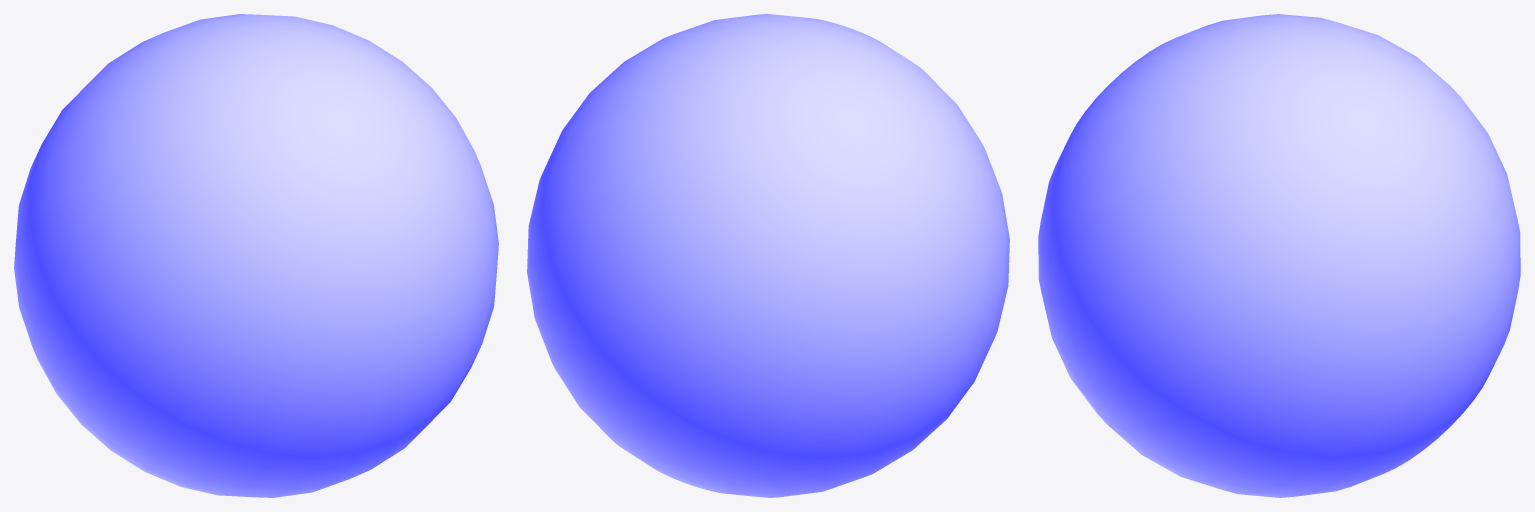
Rendered from Core1.glb.
3 renders of one model, left to right at view 1: azimuth 30°, elevation 25°; view 2: azimuth 150°, elevation 25°; view 3: azimuth 270°, elevation 25°, orthographic.
Parts seen in each view (by area): view 1: Sphere.002; view 2: Sphere.002; view 3: Sphere.002.
Part boxes in pixels (<box>): Sphere.002: <box>14,14,498,497</box>; Sphere.002: <box>527,14,1009,497</box>; Sphere.002: <box>1038,14,1520,497</box>.
Size of the model in its own units: 13.2 by 13.15 by 13.15.
